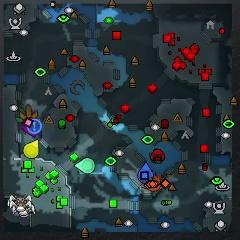Other: (27, 118, 43, 134)
p1: (138, 163, 152, 182)
p2: (75, 157, 95, 173)
p3: (20, 123, 33, 134)
p4: (24, 140, 40, 158)
p5: (141, 177, 163, 193)
x4: (16, 108, 29, 125)
x5: (19, 103, 40, 120)
